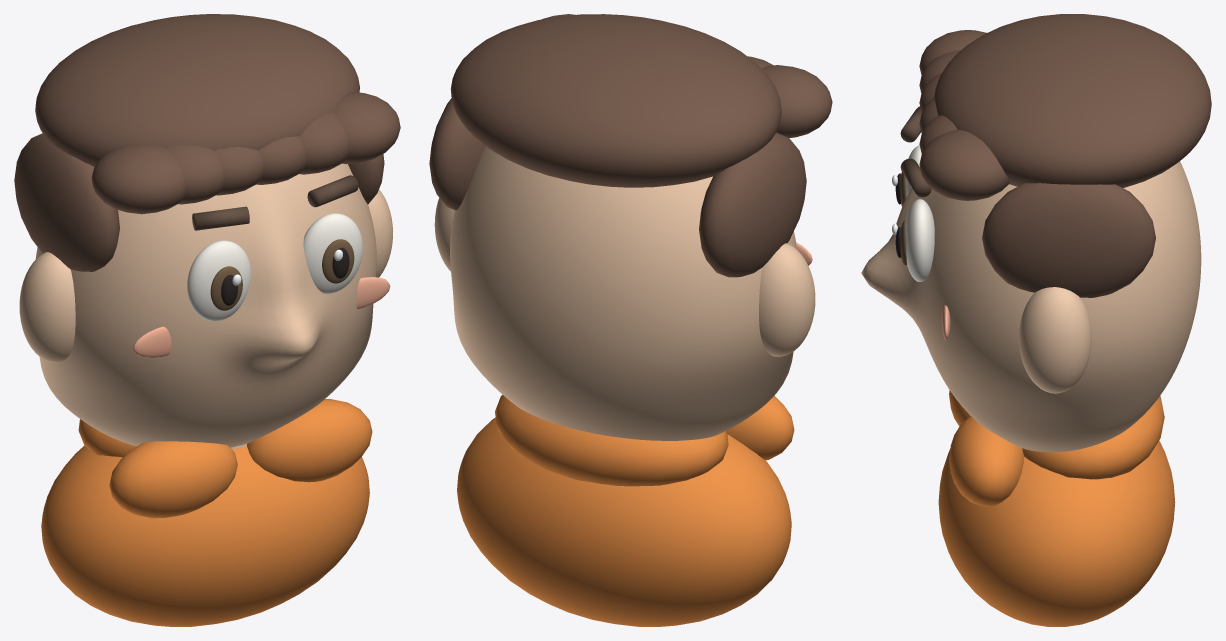
File: roamlab_face_square_preview.glb
3 renders of one model, left to right at view 1: azimuth 30°, elevation 25°; view 2: azimuth 150°, elevation 25°; view 3: azimuth 270°, elevation 25°, orthographic. The views are drawn at different scales.
Parts seen in each view (by area): view 1: Head_Morph_4Shapes_NoseAuto, Jacket_Bust, Hair_Top, Hair_Temple_L, Collar_L, Collar_R, Hair_Fringe_00, Ear_L, Hair_Fringe_05, EyeSclera_L, EyeSclera_R, Hair_Fringe_01 (+12 smaller); view 2: Head_Morph_4Shapes_NoseAuto, Hair_Top, Jacket_Bust, Hair_Temple_L, Collar_Back, Ear_L, Hair_Temple_R, Hair_Fringe_00, Collar_L, Ear_R; view 3: Head_Morph_4Shapes_NoseAuto, Hair_Top, Jacket_Bust, Hair_Temple_R, Ear_R, Collar_R, Hair_Fringe_05, Collar_Back, EyeSclera_R, Hair_Fringe_00, Brow_R, Hair_Fringe_04 (+1 smaller).
Part boxes in pixels (box(x1,y1,x2,y2)): Head_Morph_4Shapes_NoseAuto: box(35, 163, 376, 447); Jacket_Bust: box(41, 445, 369, 626); Hair_Top: box(35, 14, 359, 166); Hair_Temple_L: box(14, 133, 119, 271); Collar_L: box(109, 441, 237, 518); Collar_R: box(247, 398, 372, 482); Hair_Fringe_00: box(91, 144, 185, 214); Ear_L: box(19, 252, 75, 362); Hair_Fringe_05: box(333, 92, 400, 164); EyeSclera_L: box(187, 240, 250, 321); EyeSclera_R: box(303, 213, 362, 294); Hair_Fringe_01: box(165, 145, 223, 204); Head_Morph_4Shapes_NoseAuto: box(450, 146, 796, 440); Hair_Top: box(450, 14, 781, 187); Jacket_Bust: box(457, 417, 791, 626); Hair_Temple_L: box(699, 132, 806, 277); Collar_Back: box(495, 395, 728, 486); Ear_L: box(759, 243, 815, 356); Hair_Temple_R: box(429, 98, 485, 210); Hair_Fringe_00: box(762, 65, 832, 137); Collar_L: box(726, 396, 794, 460); Ear_R: box(434, 198, 454, 271); Head_Morph_4Shapes_NoseAuto: box(861, 161, 1201, 452); Hair_Top: box(934, 14, 1211, 187); Jacket_Bust: box(938, 440, 1175, 626); Hair_Temple_R: box(982, 183, 1155, 297); Ear_R: box(1019, 287, 1091, 393); Collar_R: box(949, 416, 1023, 506); Hair_Fringe_05: box(919, 129, 1009, 200); Collar_Back: box(1022, 396, 1164, 479); EyeSclera_R: box(906, 199, 934, 281); Hair_Fringe_00: box(919, 30, 986, 74); Brow_R: box(900, 158, 931, 197); Hair_Fringe_04: box(919, 115, 957, 153).
Size of the model in its own units: 1.19 by 1.76 by 1.01.
